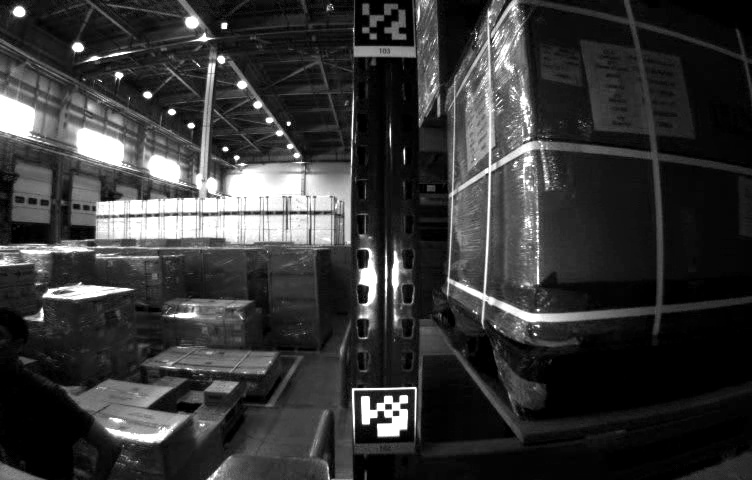True Barcode: (540, 44, 582, 85)
